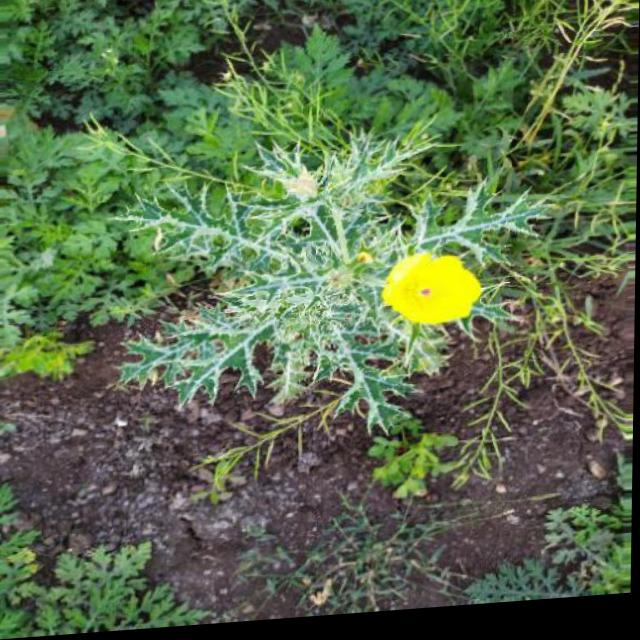weed: (18, 0, 638, 429)
